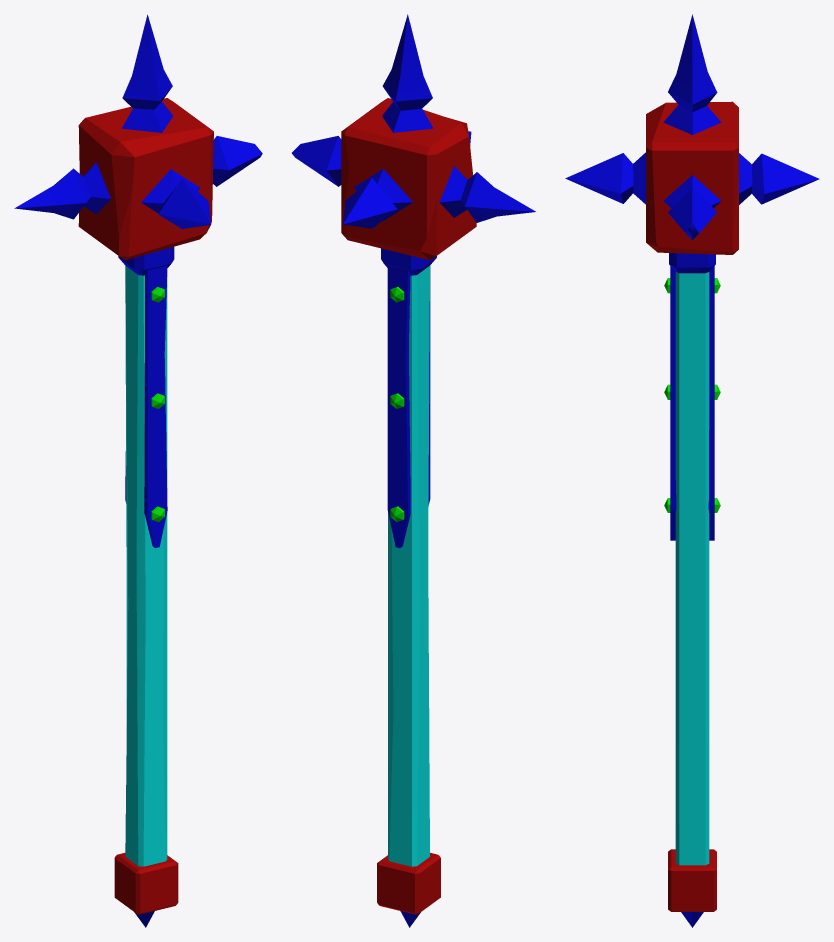
File: Mace_Common_LargedSpiked.fbx
The picture shows the model from 3 angles, left to right: view 1: azimuth 30°, elevation 25°; view 2: azimuth 150°, elevation 25°; view 3: azimuth 270°, elevation 25°; orthographic projection.
Parts seen in each view (by area): view 1: SM_Wep_Mace_02; view 2: SM_Wep_Mace_02; view 3: SM_Wep_Mace_02.
Part boxes in pixels (<box>): SM_Wep_Mace_02: <box>14,14,262,927</box>; SM_Wep_Mace_02: <box>292,14,535,927</box>; SM_Wep_Mace_02: <box>565,14,819,927</box>.
Size of the model in its own units: 31.46 by 112 by 28.4.
